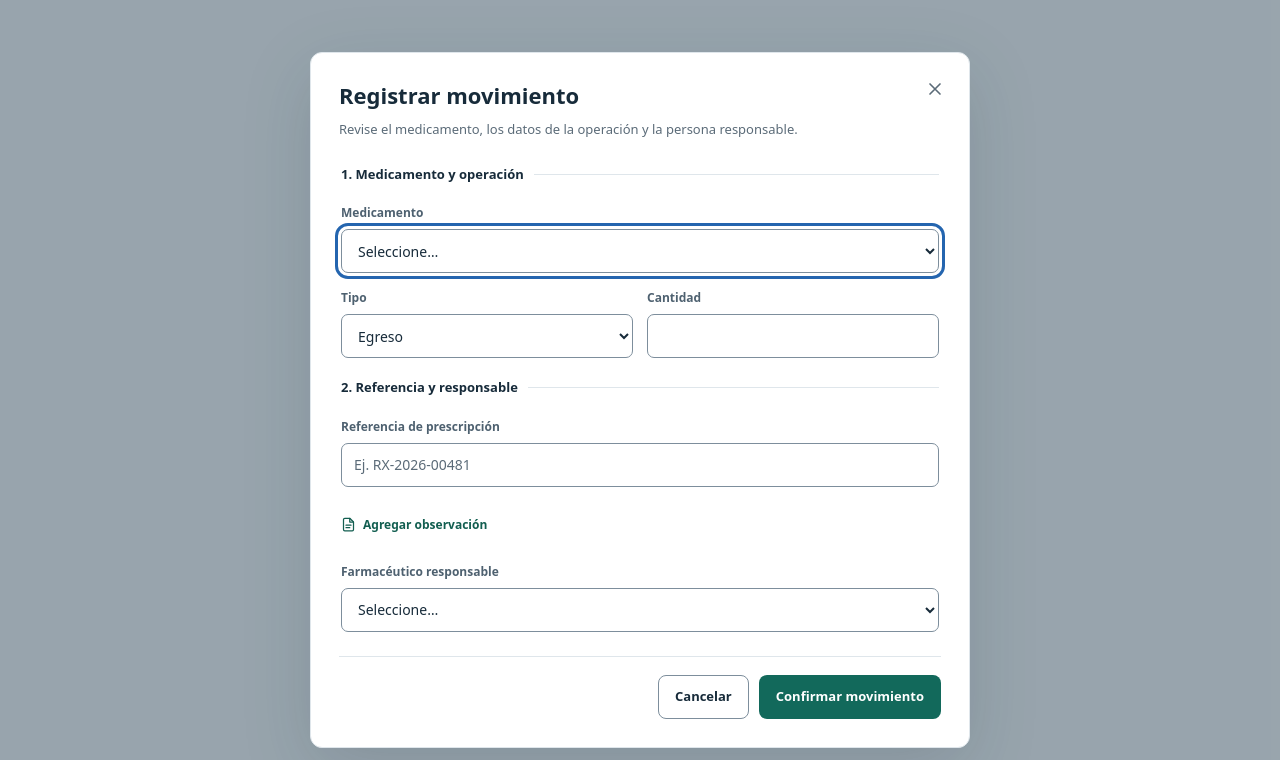
Scenario: Modals › muestra la referencia únicamente para egresos
The width and height of the screenshot is (1280, 760).
Expected: the field labelled "Referencia de prescripción" is shown, [341,443,939,487]
Select "Ingreso" in the dropdown labelled "Tipo". click: (487, 336)
box: [341,314,633,358]
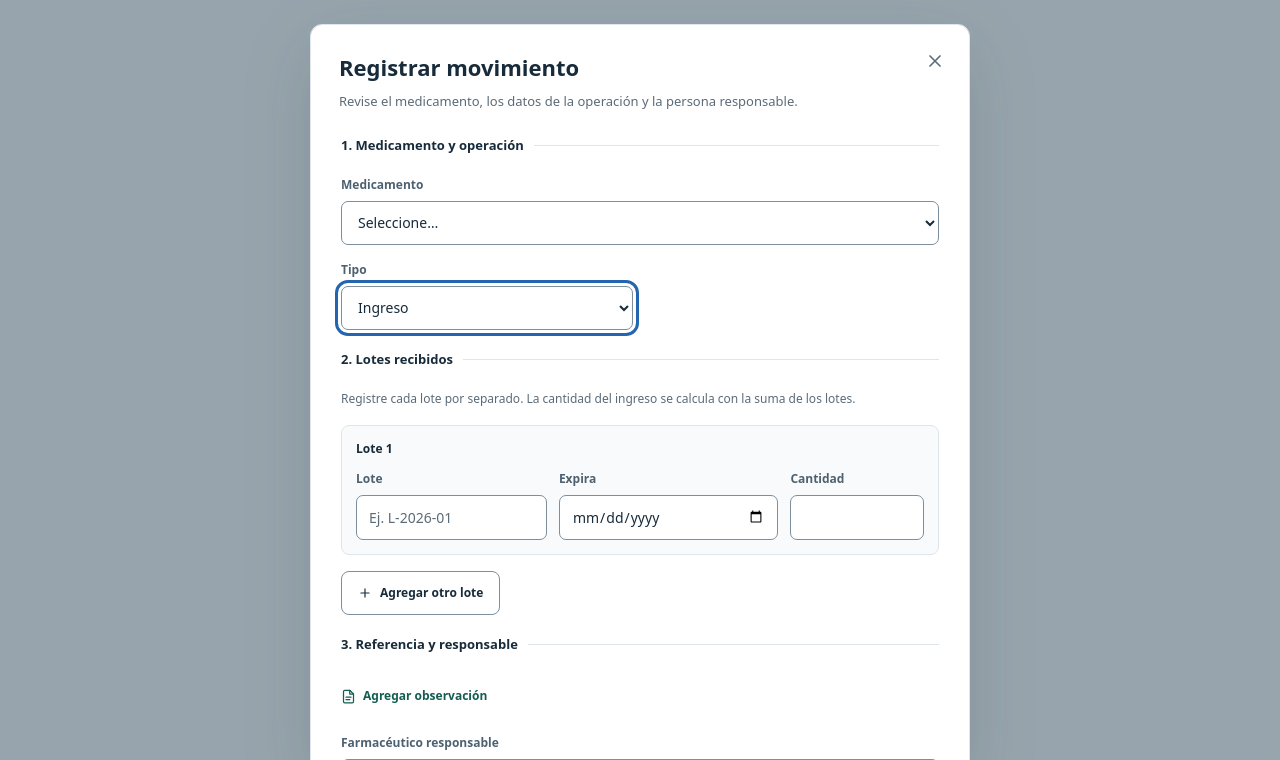
Now the label labelled "Referencia de prescripción" is gone
